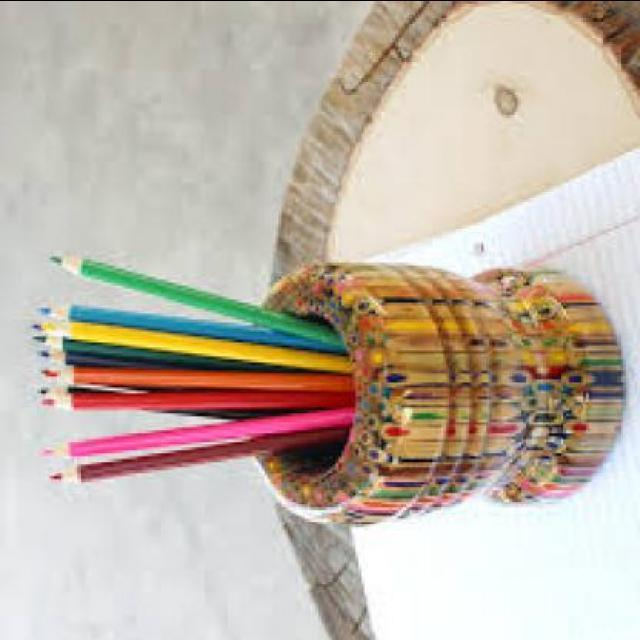Pencil: (40, 454, 100, 498), (37, 248, 103, 288), (29, 296, 94, 330), (37, 434, 94, 468)
